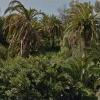Palm tree: (5, 2, 57, 62)
